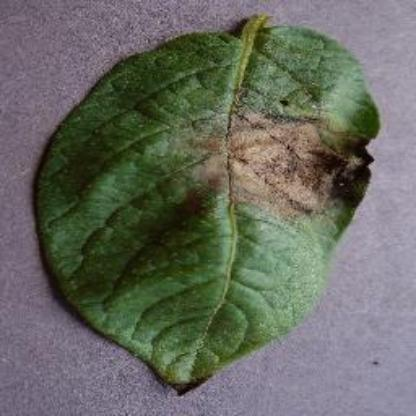Late-Blight: (31, 9, 388, 392)
